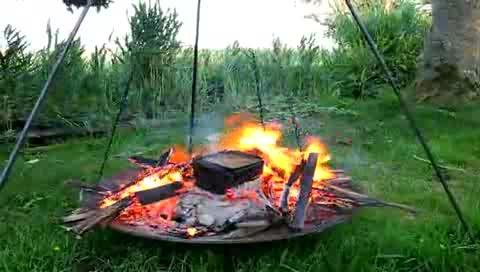fire: (246, 122, 323, 190)
